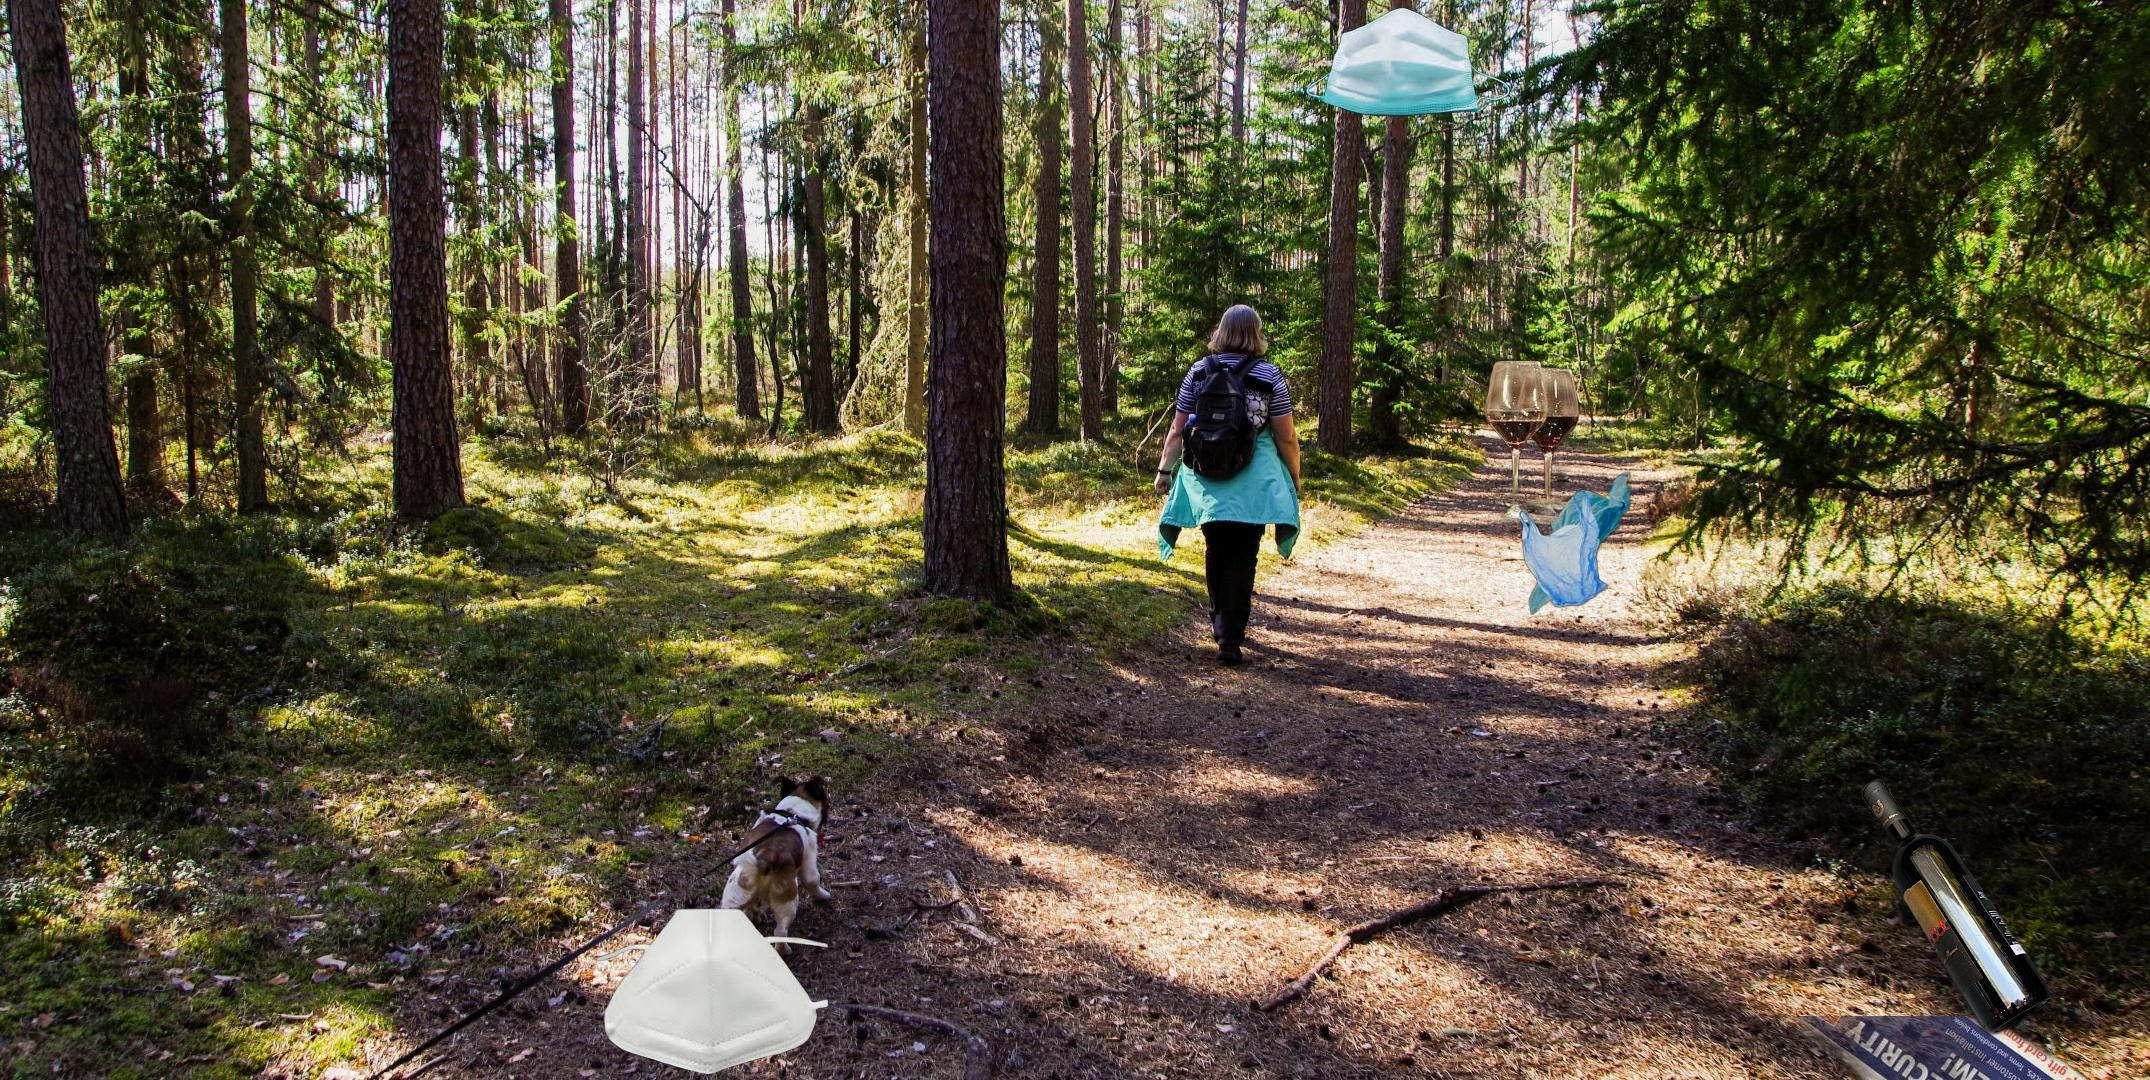glass: (1857, 774, 2056, 1040)
paper: (1764, 1017, 2150, 1080)
plastic-bag: (1481, 360, 1650, 619)
trash: (596, 906, 831, 1077), (1304, 6, 1514, 118)
